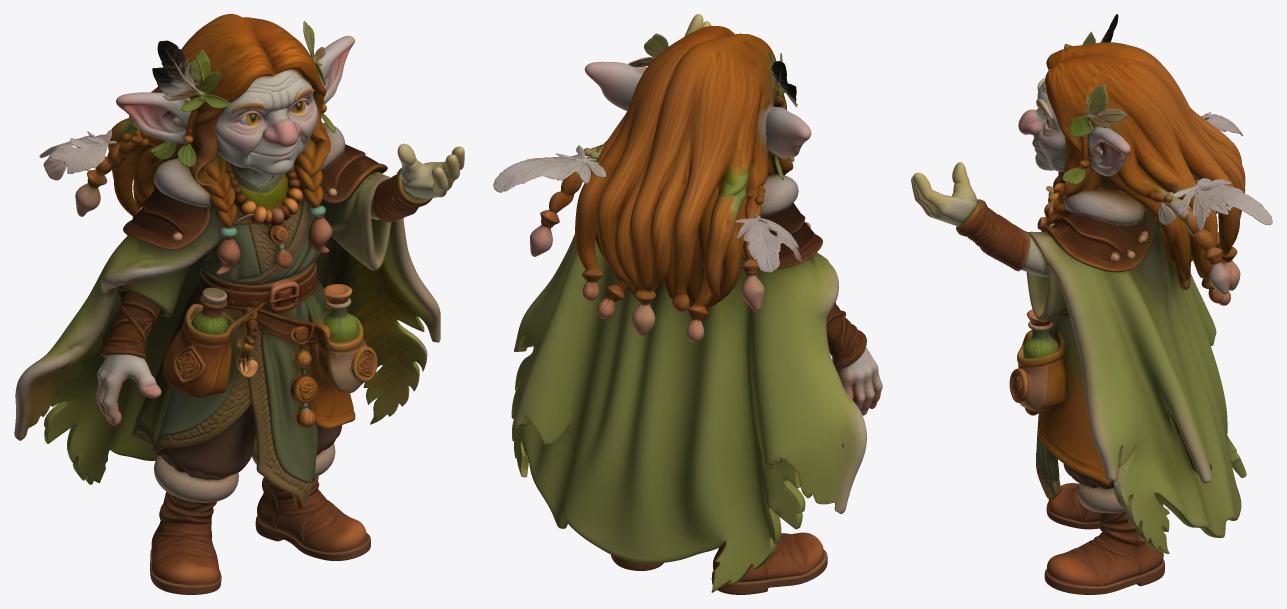
File: gnome_druid_full_female_01.glb
3 renders of one model, left to right at view 1: azimuth 30°, elevation 25°; view 2: azimuth 150°, elevation 25°; view 3: azimuth 270°, elevation 25°, orthographic. The views are drawn at different scales.
Parts seen in each view (by area): view 1: material; view 2: material; view 3: material.
Boxes of the visible parts, <box> form: material: <box>14,14,464,594</box>; material: <box>493,14,882,594</box>; material: <box>911,14,1272,594</box>.
Bounding box in the file's own units: 0.8599 × 1.12 × 0.7369.
1 material, 1 textured.
